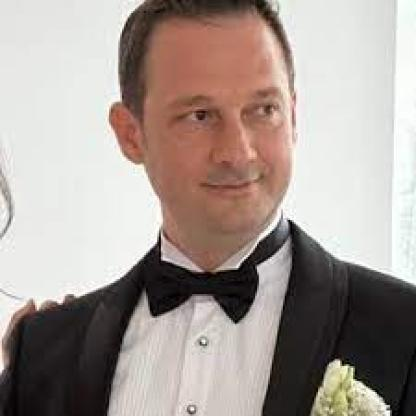person: (106, 0, 298, 258)
